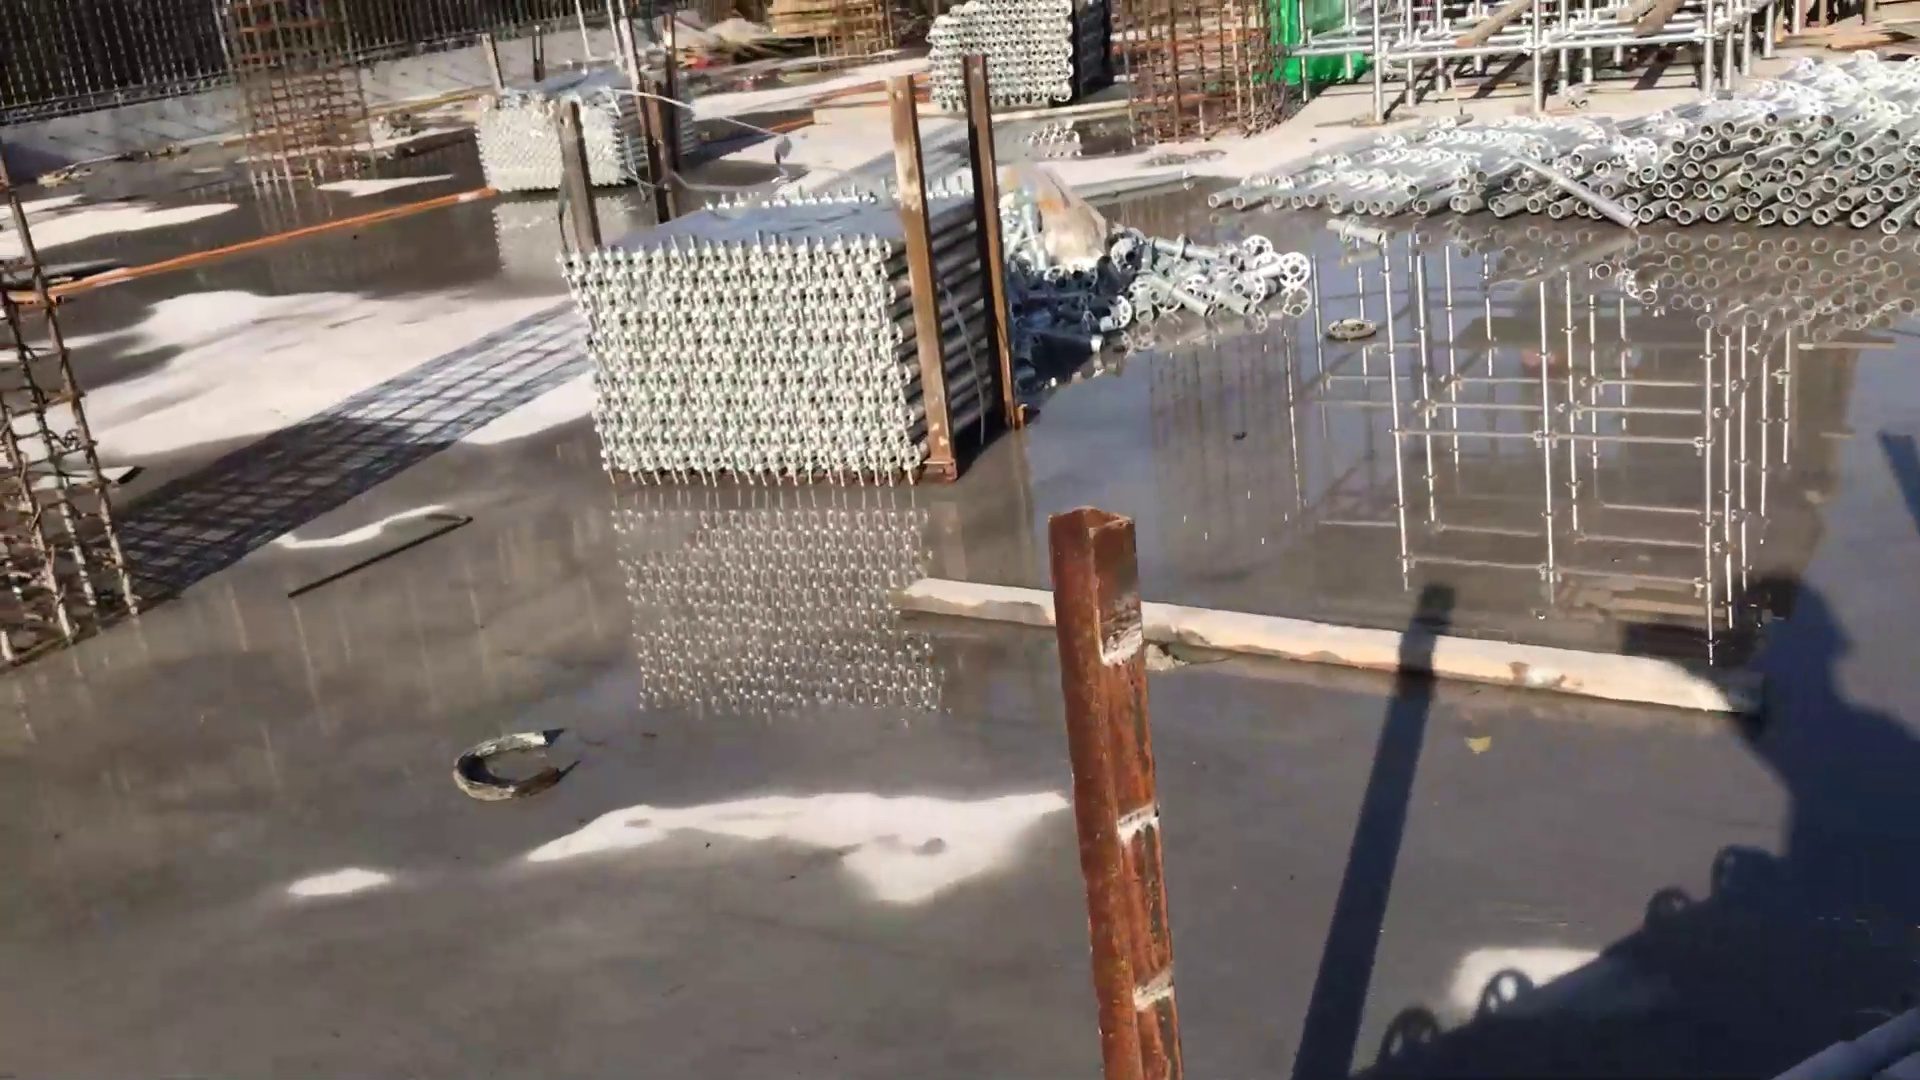scaffold: (562, 127, 1036, 522), (1240, 55, 1913, 272), (430, 22, 690, 203), (928, 1, 1116, 113)
